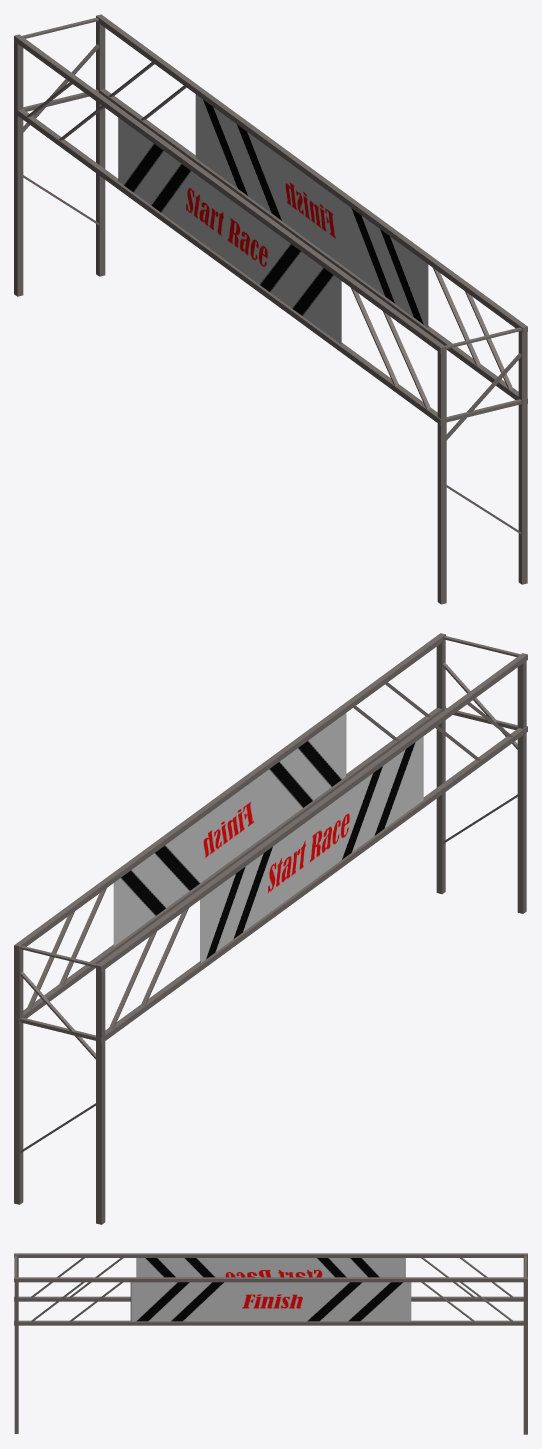
File: StartLine.obj
3 renders of one model, top to bottom at view 1: azimuth 30°, elevation 25°; view 2: azimuth 150°, elevation 25°; view 3: azimuth 270°, elevation 25°, orthographic. The views are drawn at different scales.
Parts seen in each view (by area): view 1: Plane.001; view 2: Plane.001; view 3: Plane.001.
Boxes of the visible parts, x1,y1,x2,y2 form: Plane.001: [14, 14, 527, 604]; Plane.001: [14, 633, 527, 1224]; Plane.001: [14, 1253, 527, 1434].
Bounding box in the file's own units: 2.83 × 7.95 × 23.8.
Materials: 3 (2 with a texture image).
